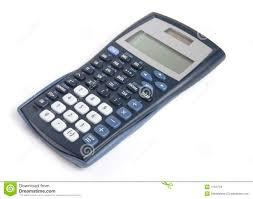Calculator: (13, 9, 229, 173)
